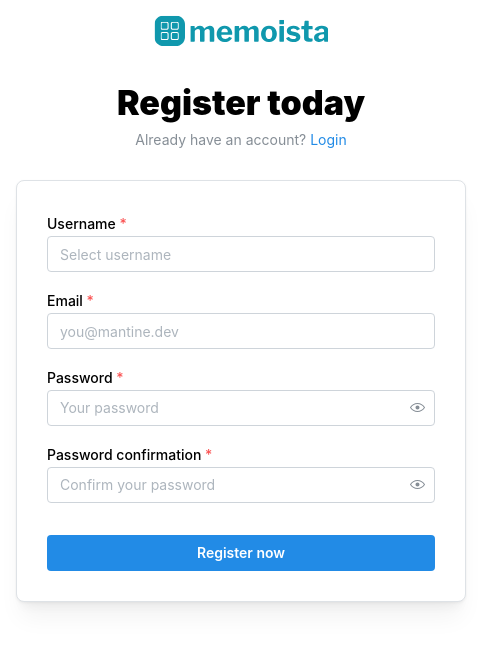
Test: RegisterForm › should display validation errors on email field
Type "test" into the field labelled "Email *". click: (241, 331)
box: [47, 313, 435, 349]
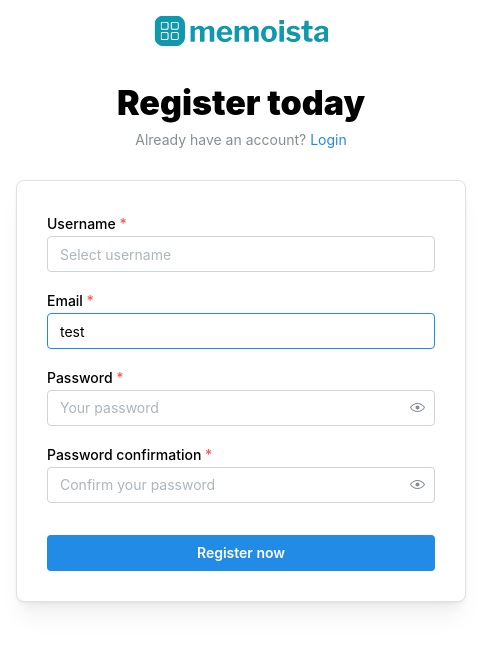
Press Tab
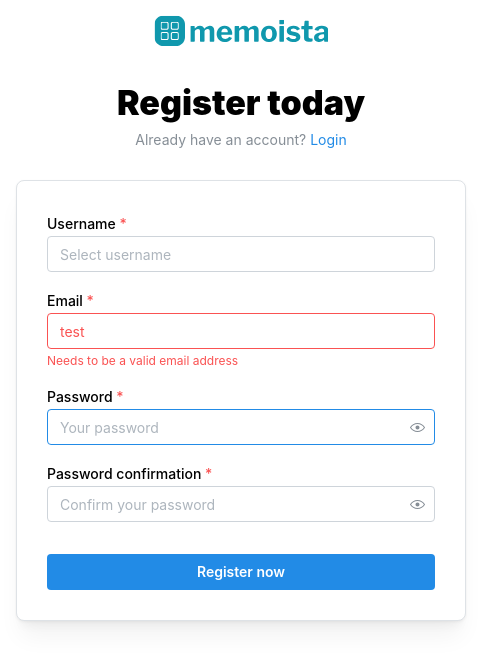
Check: the text "Needs to be a valid email address" is shown, box [47, 353, 238, 368]
Clear the field labelled "Email *". click: (241, 331)
box: [47, 313, 435, 349]
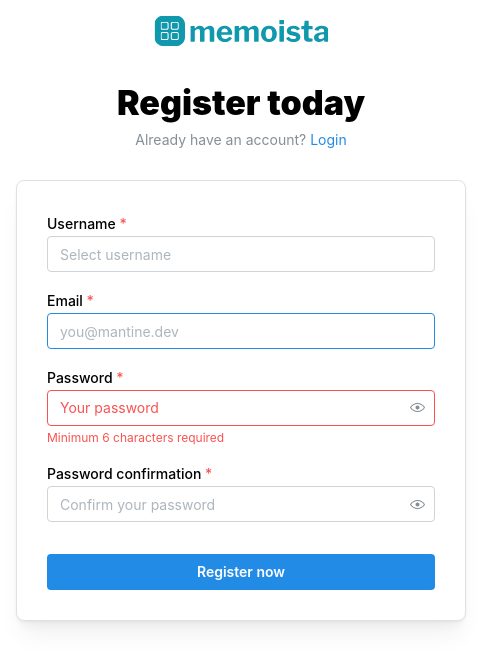
Press Tab
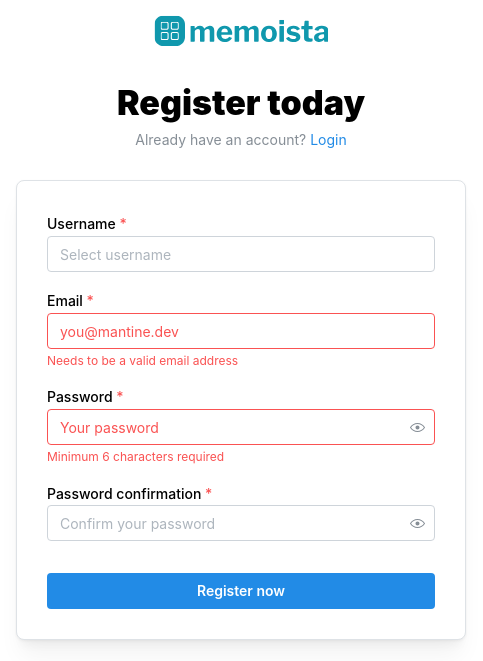
Check: the text "Needs to be a valid email address" is shown, box [47, 353, 238, 368]
